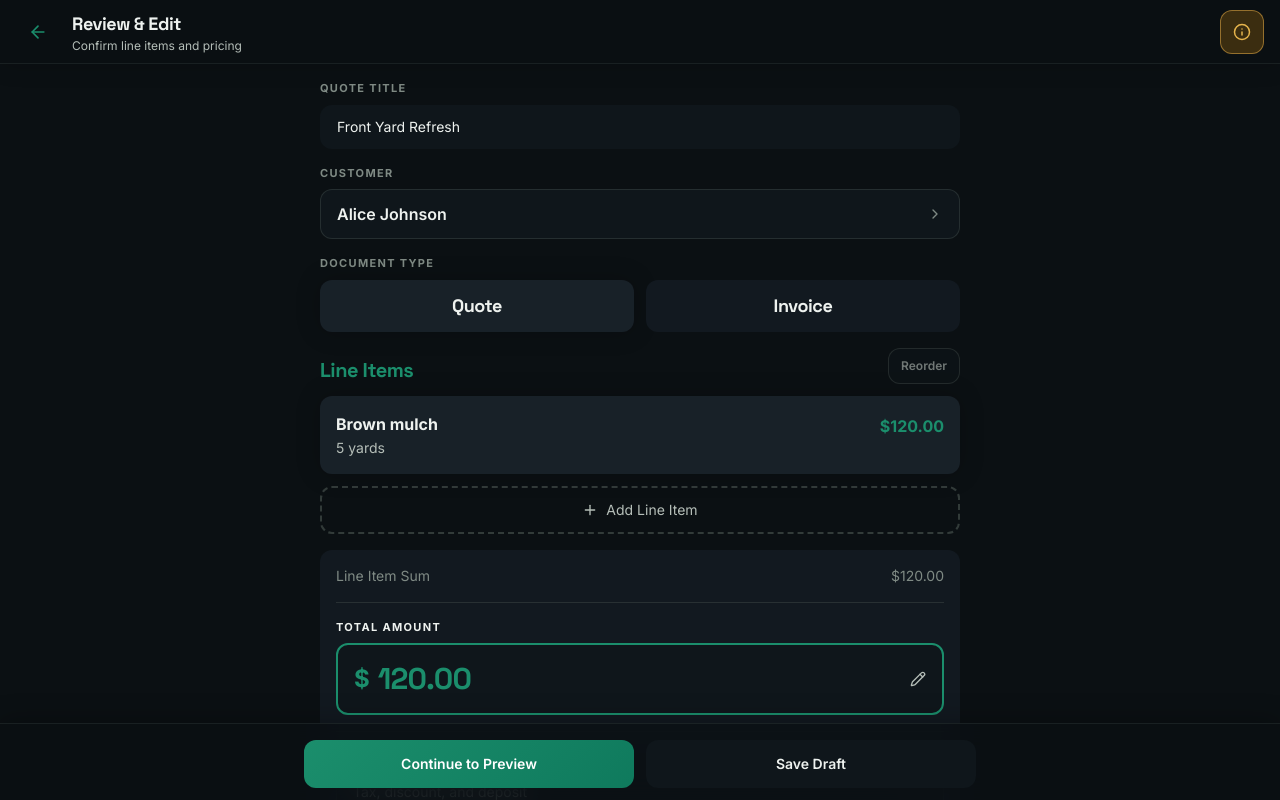
Test case: DocumentEditScreen › renders one unified actionable feed plus transcript with dismiss-only actions
Step 1. Click the button named "capture details" → (1242, 32), box [1220,10,1264,54]
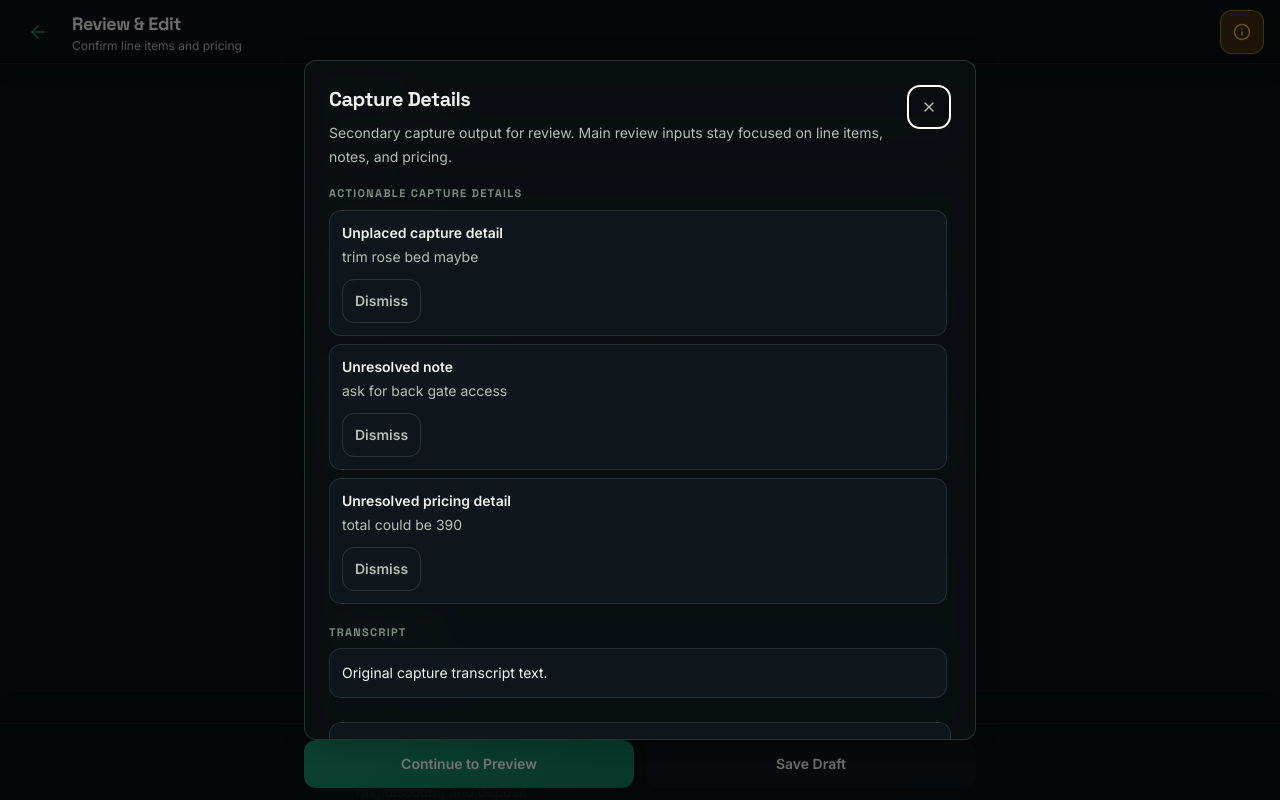
Expected: the text "Unplaced capture detail" is shown, [342,224,503,240]
Expected: the text "Unresolved note" is shown, [342,358,453,374]
Expected: the text "Unresolved pricing detail" is shown, [342,492,511,508]
